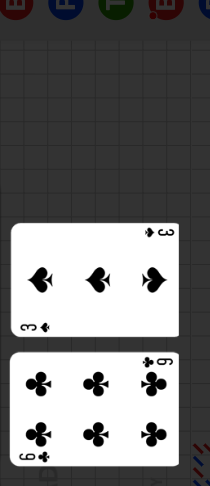3S: (142, 226, 175, 240)
6C: (18, 449, 53, 463)
